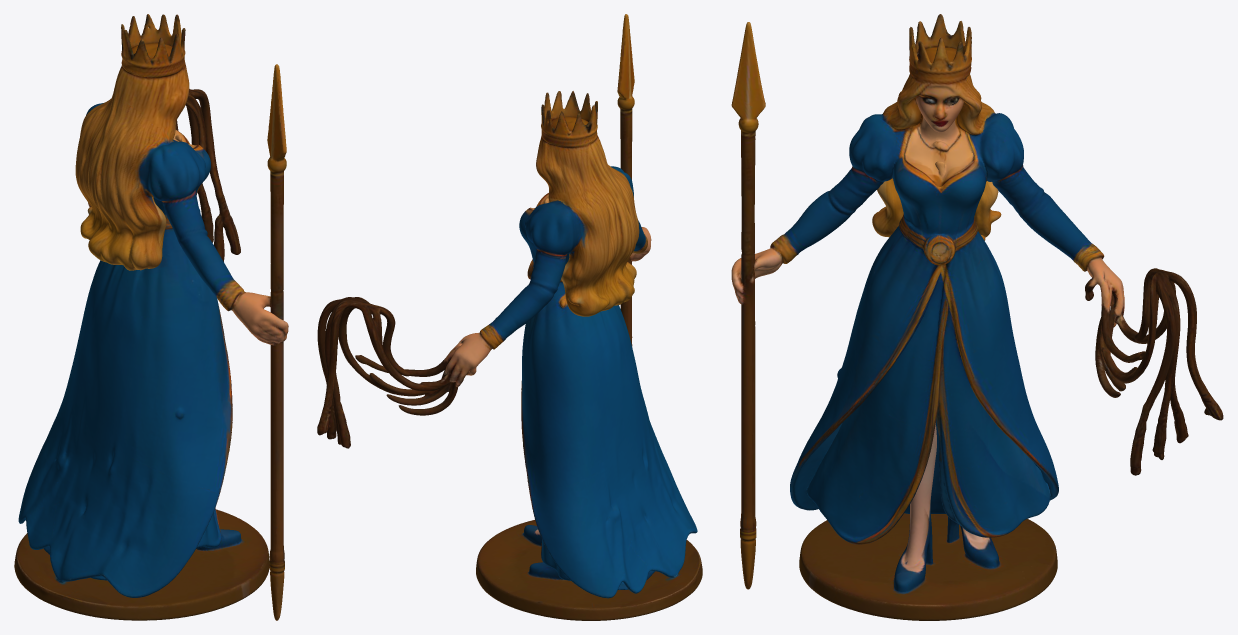
3 renders of one model, left to right at view 1: azimuth 30°, elevation 25°; view 2: azimuth 150°, elevation 25°; view 3: azimuth 270°, elevation 25°, orthographic. The views are drawn at different scales.
Visible parts, largest first — view 1: tripo_node_ad1ea286-cdd7-480d-aadd-eec7a1d447ec; view 2: tripo_node_ad1ea286-cdd7-480d-aadd-eec7a1d447ec; view 3: tripo_node_ad1ea286-cdd7-480d-aadd-eec7a1d447ec.
Boxes of the visible parts, x1,y1,x2,y2 form: tripo_node_ad1ea286-cdd7-480d-aadd-eec7a1d447ec: (14,14,288,620); tripo_node_ad1ea286-cdd7-480d-aadd-eec7a1d447ec: (317,14,702,620); tripo_node_ad1ea286-cdd7-480d-aadd-eec7a1d447ec: (731,14,1223,620).
Size of the model in its own units: 0.5833 by 1 by 0.7849.
Materials: 1 (1 with a texture image).
